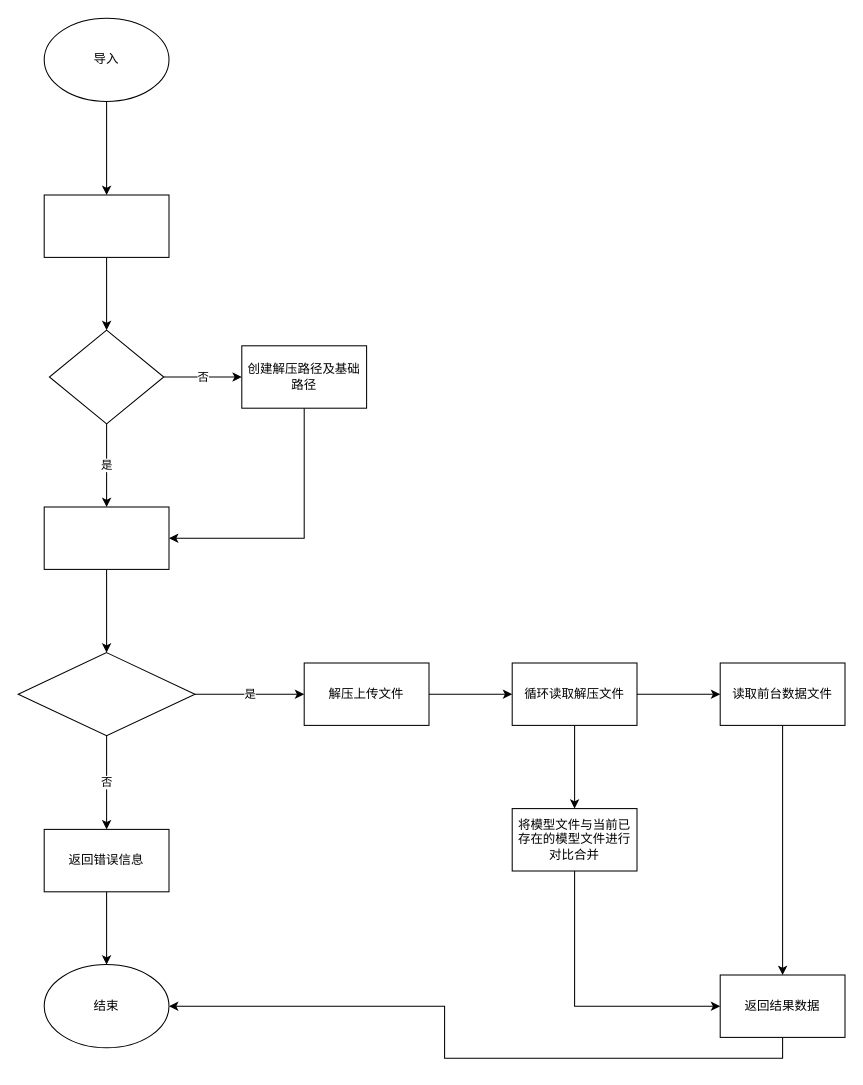
The diagram is 863 pixels wide and 1085 high, and some of its shapes have lost their labels. Here are the shapes that lost their labels. From the top down, the centre of each, then its label:
At (106,225): "读取配置文件路径，解压路径".
At (106,376): "判断路径是否存在".
At (106,537): "获取当前模型文件名，获取上传文件".
At (106,694): "判断上传文件是否正确".
